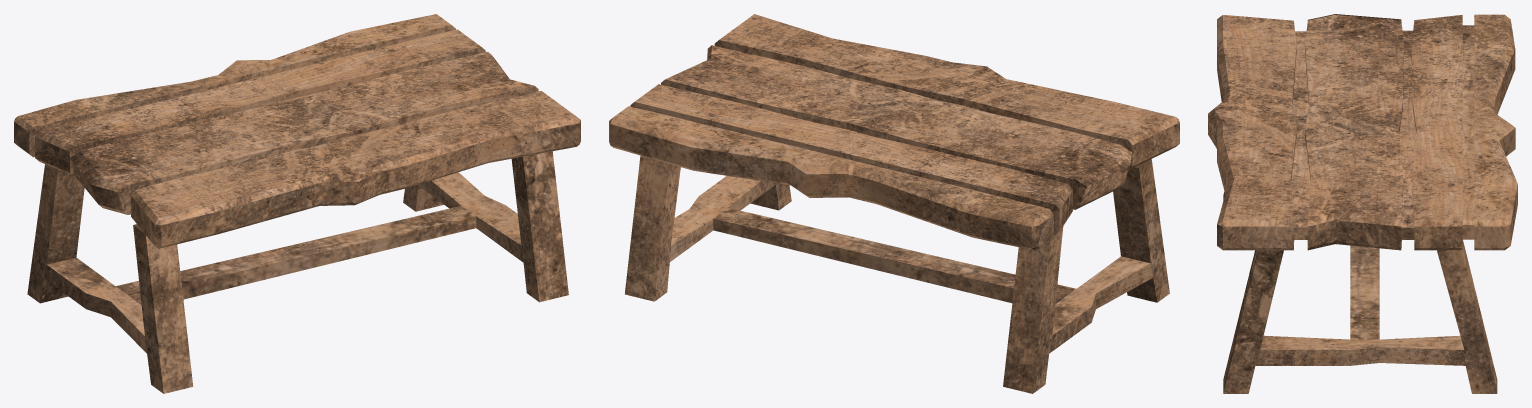
File: Table.fbx
The picture shows the model from 3 angles, left to right: view 1: azimuth 30°, elevation 25°; view 2: azimuth 150°, elevation 25°; view 3: azimuth 270°, elevation 25°; orthographic projection.
Parts seen in each view (by area): view 1: Table; view 2: Table; view 3: Table.
Part boxes in pixels (<box>): Table: <box>14,14,580,393</box>; Table: <box>609,14,1179,393</box>; Table: <box>1208,14,1517,393</box>.
Bounding box in the file's own units: 3.09 × 1.21 × 1.91.
Materials: 1 (1 with a texture image).
